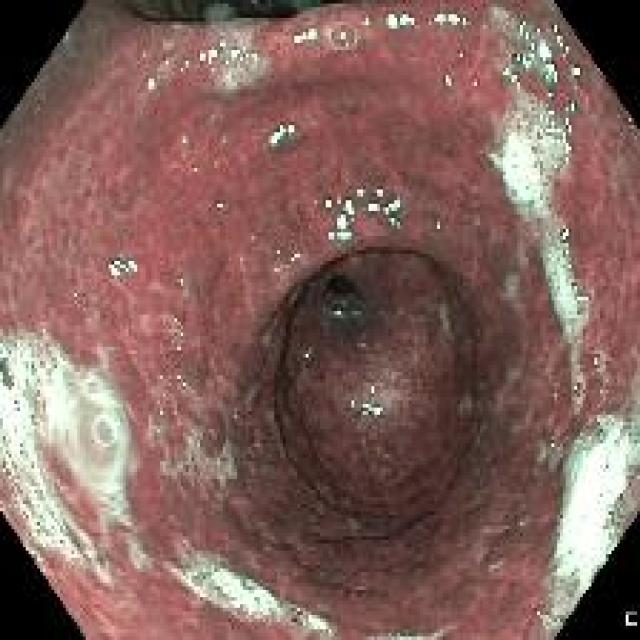bubbles: (487, 3, 623, 411), (1, 316, 132, 573), (534, 394, 638, 636), (160, 547, 339, 639), (188, 4, 278, 92), (171, 433, 251, 498), (557, 227, 595, 310), (516, 116, 556, 194), (328, 26, 359, 55), (570, 372, 590, 407), (507, 46, 529, 74), (457, 394, 476, 421), (238, 574, 260, 595), (231, 600, 254, 619)
contrast: (325, 273, 358, 302)
specularity: (308, 183, 403, 248), (519, 17, 588, 94), (177, 36, 268, 77), (538, 93, 577, 170), (423, 3, 478, 38), (167, 311, 193, 368), (106, 248, 144, 280), (381, 1, 418, 33), (152, 391, 171, 439), (267, 119, 294, 144), (288, 24, 321, 43), (298, 343, 316, 374), (440, 66, 458, 96), (174, 129, 194, 153), (360, 399, 383, 419), (174, 370, 191, 395), (144, 74, 165, 94), (590, 344, 605, 372), (173, 270, 186, 298), (467, 71, 485, 91), (154, 52, 174, 69), (454, 45, 471, 64), (360, 13, 374, 35), (327, 302, 344, 318), (211, 150, 222, 170), (364, 382, 378, 397), (214, 197, 228, 212), (188, 158, 200, 175), (218, 134, 231, 149), (433, 217, 441, 232), (347, 395, 356, 408)
